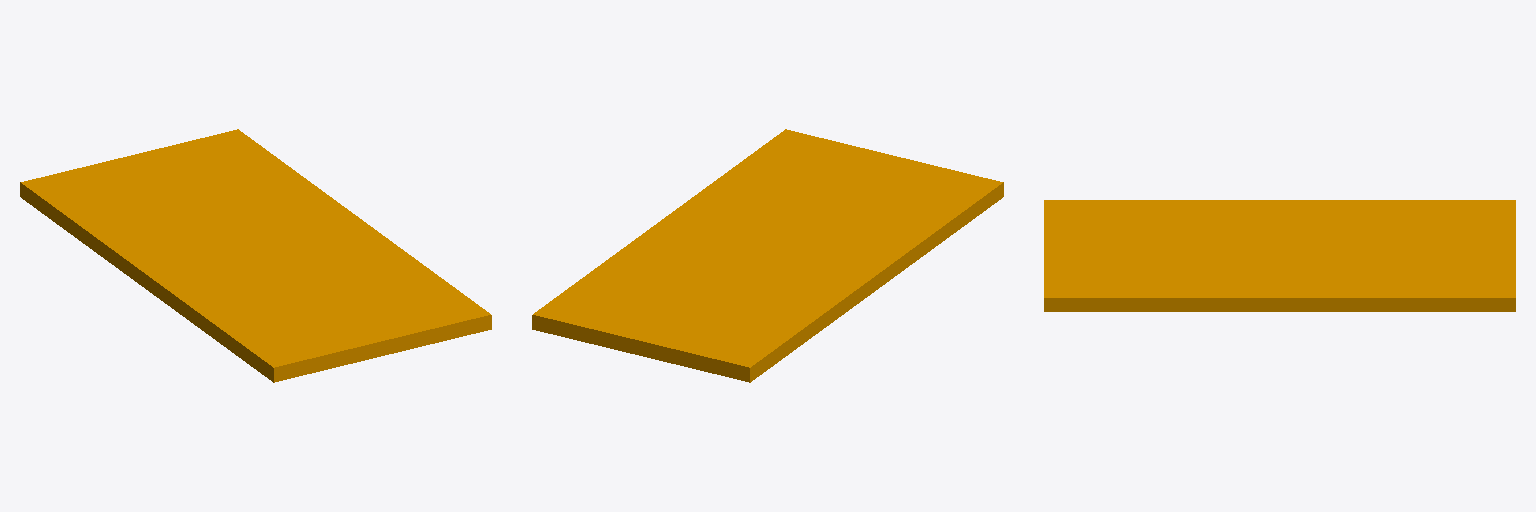
robot.urdf — table:
<?xml version="1.0"?>
<robot name="table">
  <link name="table">
    <visual>
      <origin xyz="0 0 0"/>
      <geometry>
        <mesh filename="1x1x1_cube.obj" scale="0.76 1.53 0.05"/>
      </geometry>
    </visual>
    <collision>
      <origin xyz="0 0 0"/>
      <geometry>
        <mesh filename="1x1x1_cube.obj" scale="0.76 1.53 0.05"/>
      </geometry>
    </collision>
    <inertial>
      <mass value="500"/>
      <friction value="1.0"/>
      <inertia ixx="1000.0" ixy="0.0" ixz="0.0" iyy="1000.0" iyz="0.0" izz="1000.0"/>
    </inertial>
  </link>
</robot>

--- Facts derived from the render (not from the file) ---
The picture shows the robot from 3 angles, left to right: view 1: azimuth 30°, elevation 25°; view 2: azimuth 150°, elevation 25°; view 3: azimuth 270°, elevation 25°; orthographic projection.
Model table with 1 links and 0 joints (none), rooted at table, posed all joints at 0.
Links seen in each view (by area): view 1: table; view 2: table; view 3: table.
Link boxes in pixels (x1,y1,x2,y2): table: (20,129,491,382); table: (532,129,1003,382); table: (1044,200,1515,311).
Bounding box of the posed robot: 0.76 × 1.53 × 0.05 m (x, y, z).
1 mesh visuals loaded from 1 distinct referenced files (1 OBJ).